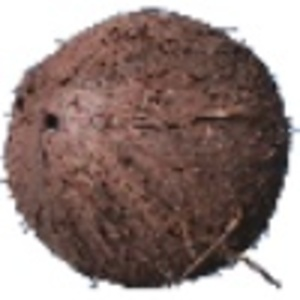coco: (1, 8, 300, 289)
